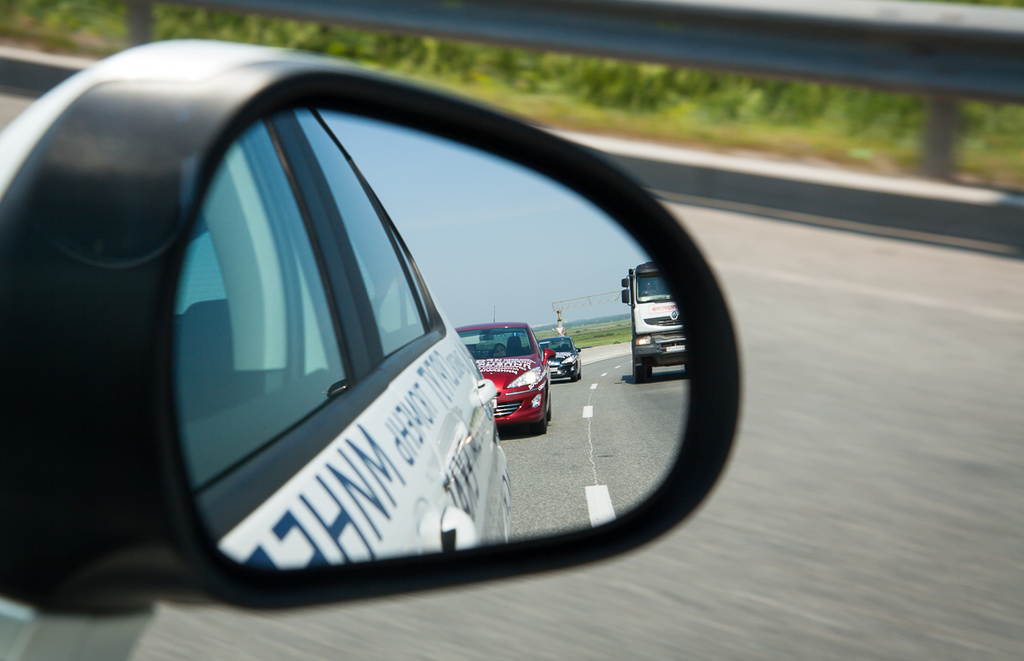Car: (454, 305, 556, 433), (540, 337, 579, 381)
